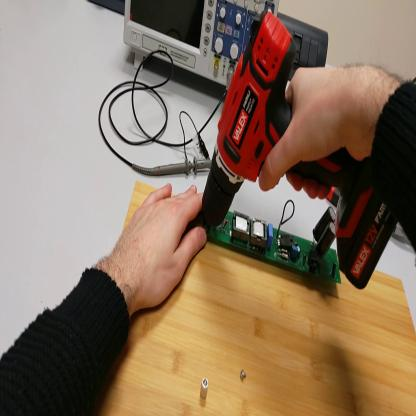electric screwdriver: (201, 11, 399, 290)
hand: (259, 61, 385, 197), (117, 183, 208, 312)
high voltage board: (189, 199, 344, 288)
oscilloscope: (124, 2, 282, 93)
oscilloscope probe tip: (137, 159, 215, 176)
socket: (88, 1, 125, 19)
working area: (93, 179, 416, 416)
